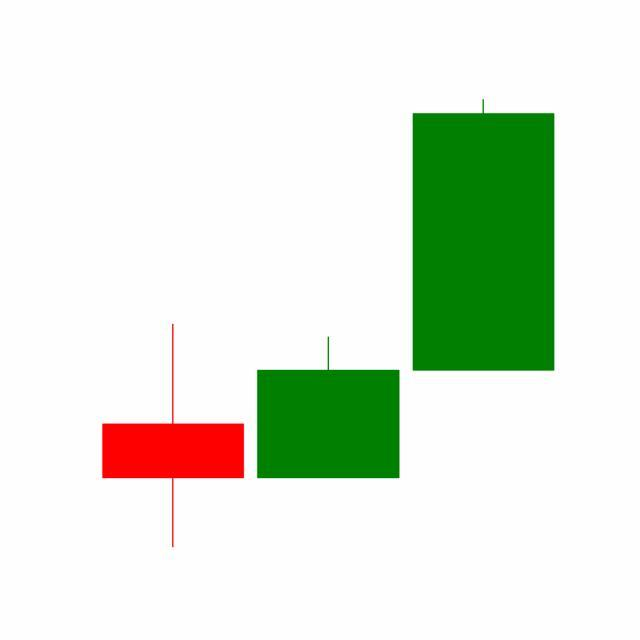Marubozu: (250, 336, 407, 480)
